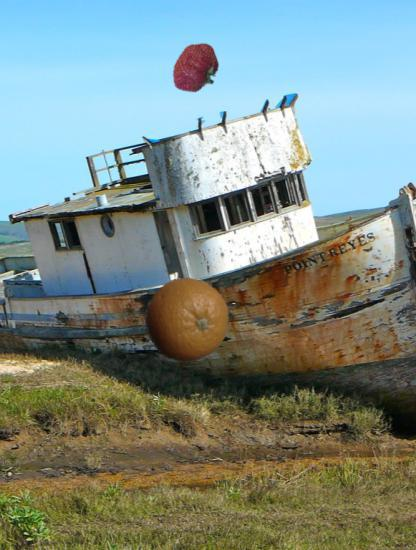Orange: (143, 277, 229, 363)
Strawberry: (169, 41, 224, 96)
